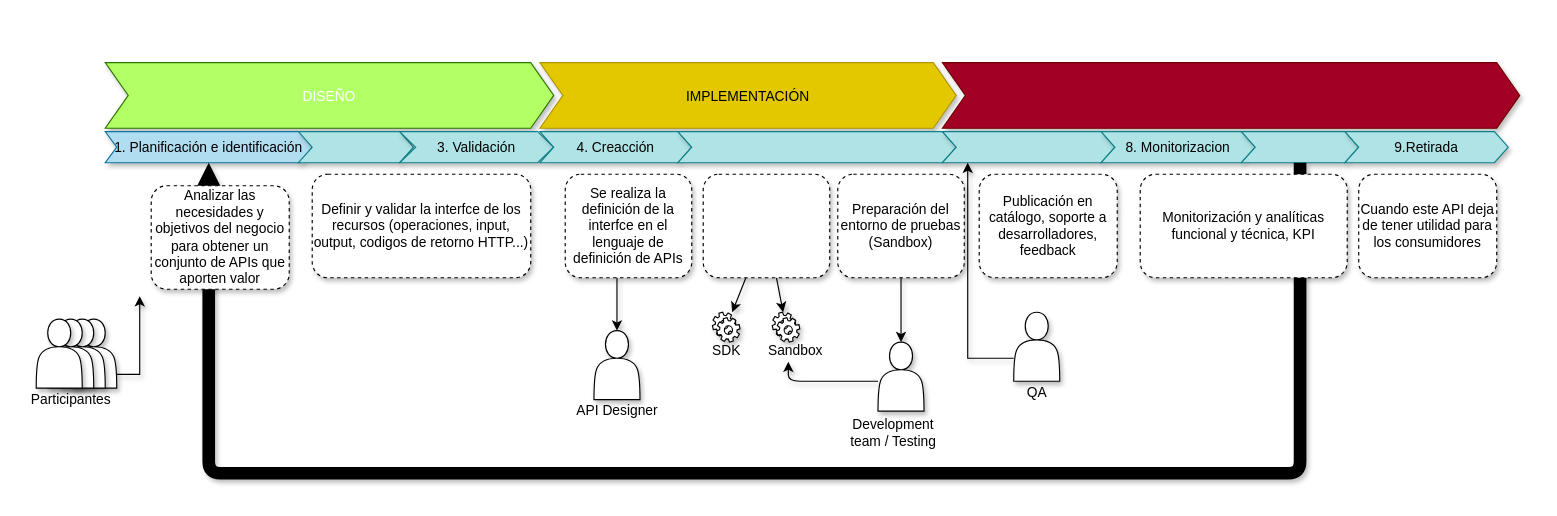
Some shapes in this 1557 by 516 pixel diagram are drawn without their labels. The centre of each missing label's shape, as x and y in pixels:
"2. Diseño" belongs at point 356,148.
"6. Implementación" belongs at point 817,148.
"7. Publicación" belongs at point 1029,148.
"9. Analítica" belongs at point 1301,148.
"Desarrollo de la lógica de negocio, partiendo de la definición de laAPI" belongs at point 767,227.
"GESTIÓN" belongs at point 1232,96.
